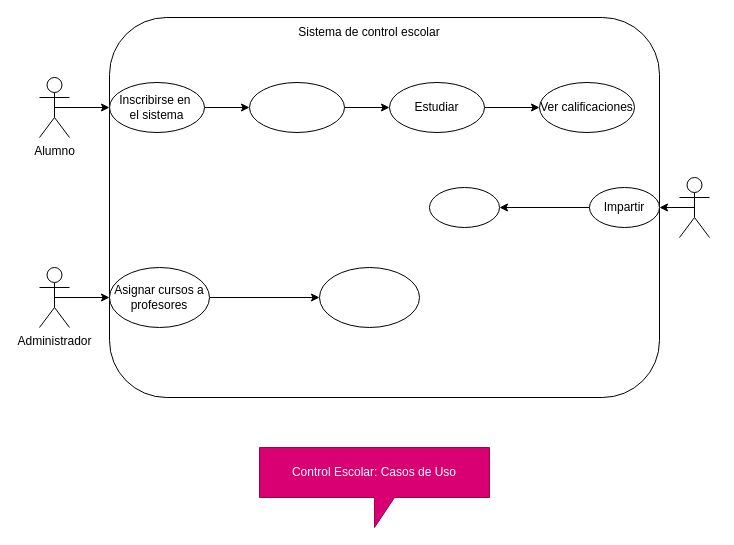
Some shapes in this 734 by 545 pixel diagram are drawn without their labels. The centre of each missing label's shape, as x and y in pixels:
Consultar Datos: the point at 296,107
Evaluar: the point at 464,207
Profesor: the point at 694,207
Registrar Alumnos y Profesores: the point at 369,297
